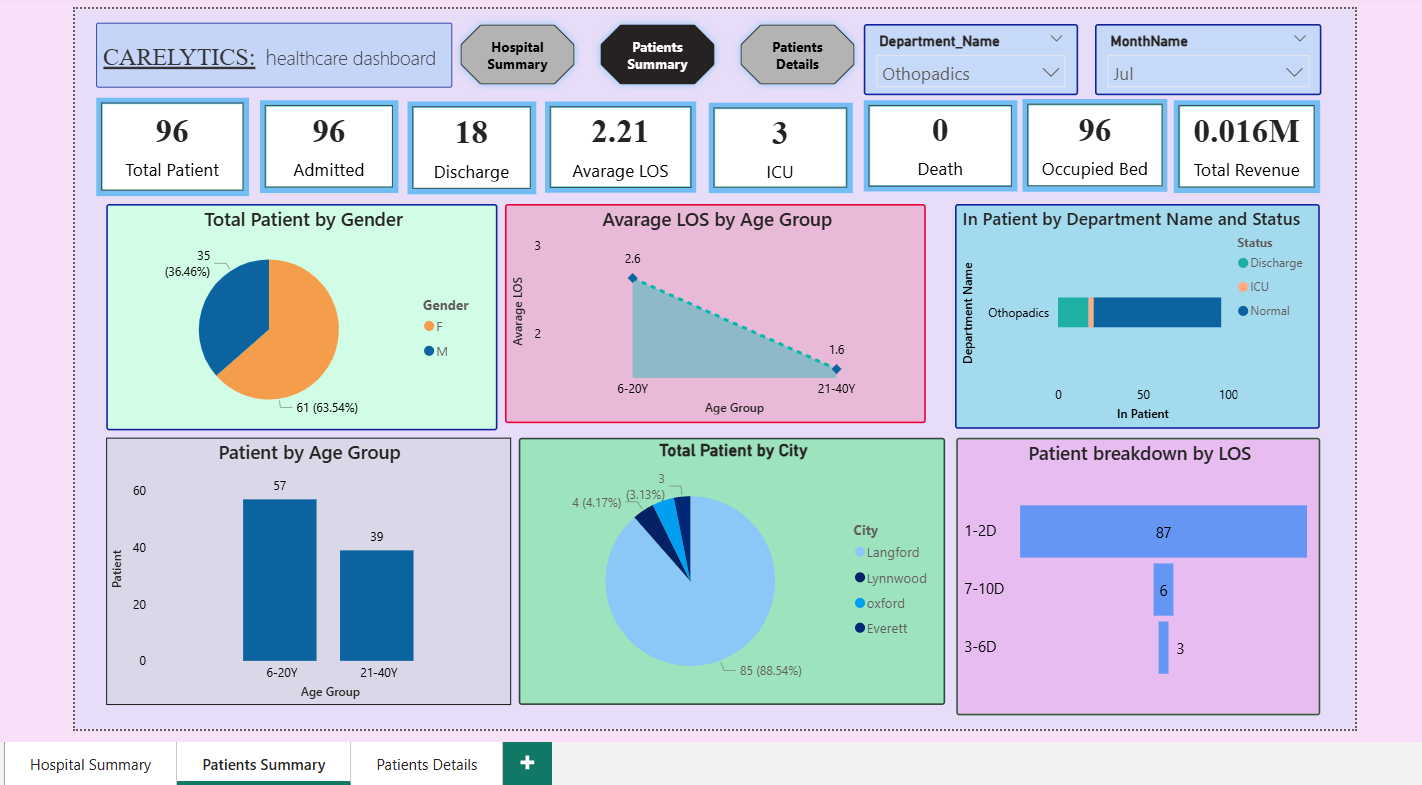

This screenshot's page, from the dashboard's own definition file:
{"tool":"powerbi","page":{"name":"Patients Summary ","canvas":[1280,720],"ordinal":1},"visuals":[{"type":"cardVisual","fields":{"Data":["Measure.Total Patient"]},"box":[21.2,86.2,132.5,93.8],"z":0},{"type":"textbox","box":[32.9,20.6,330.4,65.8],"z":1000},{"type":"slicer","fields":{"Values":["Department.Department_Name"]},"box":[769.2,15.1,213.9,71.3],"z":2000},{"type":"slicer","fields":{"Values":["Calendar_date.MonthName"]},"box":[992.6,15.1,253.6,71.3],"z":3000},{"type":"cardVisual","fields":{"Data":["Measure.In Patient"]},"box":[167.5,85.6,129.6,91.7],"z":4000},{"type":"cardVisual","fields":{"Data":["Measure.Total Discharge"]},"box":[319,86.8,117.4,91.7],"z":5000},{"type":"cardVisual","fields":{"Data":["Measure.Avarage LOS"]},"box":[456,84.3,151.6,90.5],"z":6000},{"type":"cardVisual","fields":{"Data":["Measure.ICU"]},"box":[613.7,84.3,155.2,90.5],"z":7000},{"type":"cardVisual","fields":{"Data":["Measure.Death"]},"box":[775,84.3,154,90.5],"z":8000},{"type":"cardVisual","fields":{"Data":["Measure.Occupied Bed"]},"box":[947.4,86.8,145.5,91.7],"z":9000},{"type":"cardVisual","fields":{"Data":["Measure.Total Revenue"]},"box":[1100.2,86.8,145.5,91.7],"z":10000},{"type":"donutChart","fields":{"Category":["Detail data dataset.Gender"],"Y":["Measure.Total Patient"]},"box":[20.8,191.9,407.1,228.6],"z":11000},{"type":"columnChart","fields":{"Y":["Measure.Total Patient"],"Category":["Detail data dataset.Age Bucket"]},"box":[31.4,420,407.1,275.7],"z":12000},{"type":"areaChart","fields":{"Y":["Measure.Avarage LOS"],"Category":["Detail data dataset.Age Bucket"]},"box":[427.8,178.5,420.5,218.8],"z":13000},{"type":"barChart","fields":{"Category":["Department.Department_Name"],"Y":["Measure.In Patient"],"Series":["Detail data dataset.Status"]},"box":[881.4,191.9,364.3,226.1],"z":14000},{"type":"funnel","title":"Patient breakdown by LOS","fields":{"Y":["Measure.Total Patient"],"Category":["Detail data dataset.Custom"]},"box":[897.2,429.1,364.3,277.5],"z":15000},{"type":"azureMap","fields":{"Size":["Measure.Total Patient"],"Category":["Detail data dataset.City"]},"box":[456,429.1,409.5,267.7],"z":16000},{"type":"pageNavigator","box":[363.1,20.8,402.2,55],"z":17000}]}

Visuals, with their boxes on the page's 1280x720 design canvas (x1, y1, x2, y2). These are canvas units, not pixel positions in the 1422x785 screenshot, which may show the page scaled, cropped or inside an application window:
cardVisual - Measure.Total Patient: {"x1": 21, "y1": 86, "x2": 154, "y2": 180}
textbox: {"x1": 33, "y1": 21, "x2": 363, "y2": 86}
slicer - Department.Department_Name: {"x1": 769, "y1": 15, "x2": 983, "y2": 86}
slicer - Calendar_date.MonthName: {"x1": 993, "y1": 15, "x2": 1246, "y2": 86}
cardVisual - Measure.In Patient: {"x1": 168, "y1": 86, "x2": 297, "y2": 177}
cardVisual - Measure.Total Discharge: {"x1": 319, "y1": 87, "x2": 436, "y2": 178}
cardVisual - Measure.Avarage LOS: {"x1": 456, "y1": 84, "x2": 608, "y2": 175}
cardVisual - Measure.ICU: {"x1": 614, "y1": 84, "x2": 769, "y2": 175}
cardVisual - Measure.Death: {"x1": 775, "y1": 84, "x2": 929, "y2": 175}
cardVisual - Measure.Occupied Bed: {"x1": 947, "y1": 87, "x2": 1093, "y2": 178}
cardVisual - Measure.Total Revenue: {"x1": 1100, "y1": 87, "x2": 1246, "y2": 178}
donutChart - Detail data dataset.Gender x Measure.Total Patient: {"x1": 21, "y1": 192, "x2": 428, "y2": 420}
columnChart - Measure.Total Patient x Detail data dataset.Age Bucket: {"x1": 31, "y1": 420, "x2": 438, "y2": 696}
areaChart - Measure.Avarage LOS x Detail data dataset.Age Bucket: {"x1": 428, "y1": 178, "x2": 848, "y2": 397}
barChart - Department.Department_Name x Measure.In Patient: {"x1": 881, "y1": 192, "x2": 1246, "y2": 418}
"Patient breakdown by LOS" funnel: {"x1": 897, "y1": 429, "x2": 1262, "y2": 707}
azureMap - Measure.Total Patient x Detail data dataset.City: {"x1": 456, "y1": 429, "x2": 866, "y2": 697}
pageNavigator: {"x1": 363, "y1": 21, "x2": 765, "y2": 76}
